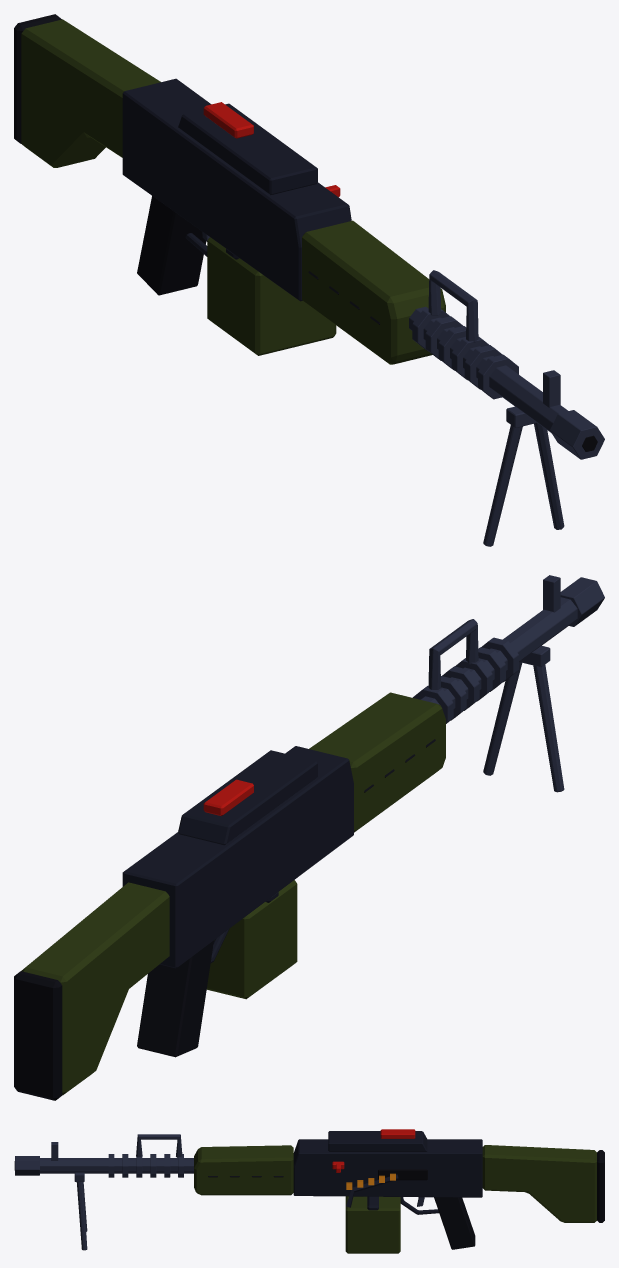
File: myw_lmg.obj
The picture shows the model from 3 angles, top to bottom: view 1: azimuth 30°, elevation 25°; view 2: azimuth 150°, elevation 25°; view 3: azimuth 270°, elevation 25°; orthographic projection. The views are drawn at different scales.
Visible parts, largest first — view 1: Body, Furniture, Barrel, AmmoBox, Bipod; view 2: Body, Furniture, Barrel, AmmoBox, Bipod; view 3: Body, Furniture, Barrel, AmmoBox, Bipod, Belt.
Boxes of the visible parts, bbox=[...] form: Body: bbox=[122, 78, 351, 301]; Furniture: bbox=[14, 14, 445, 364]; Barrel: bbox=[409, 270, 604, 459]; AmmoBox: bbox=[207, 237, 336, 355]; Bipod: bbox=[483, 406, 564, 546]; Body: bbox=[122, 746, 353, 1057]; Furniture: bbox=[14, 692, 445, 1100]; Barrel: bbox=[412, 575, 604, 723]; AmmoBox: bbox=[206, 880, 297, 999]; Bipod: bbox=[483, 645, 564, 792]; Body: bbox=[293, 1129, 482, 1249]; Furniture: bbox=[194, 1145, 604, 1222]; Barrel: bbox=[14, 1134, 193, 1177]; AmmoBox: bbox=[345, 1196, 400, 1253]; Bipod: bbox=[74, 1172, 87, 1250]; Belt: bbox=[346, 1173, 398, 1207].
Size of the model in its own units: 0.6491 by 1.26 by 5.94.
